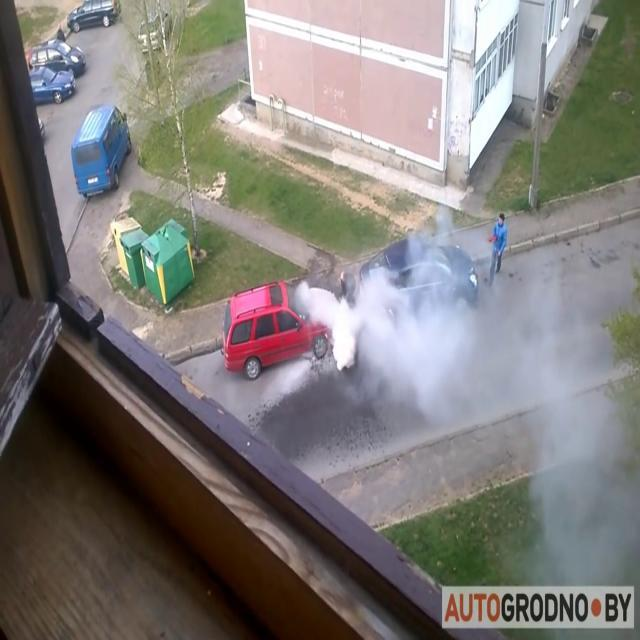Smoke: (306, 200, 522, 414), (491, 244, 626, 542)
